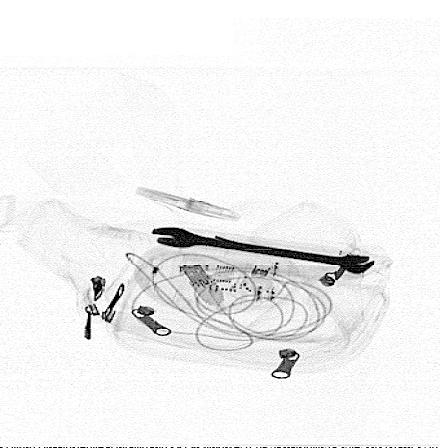Wrench: (152, 228, 374, 275)
